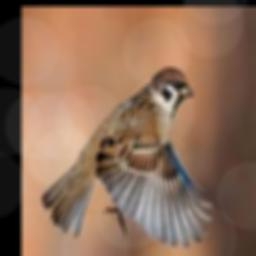Sparrow: (41, 67, 211, 247)
